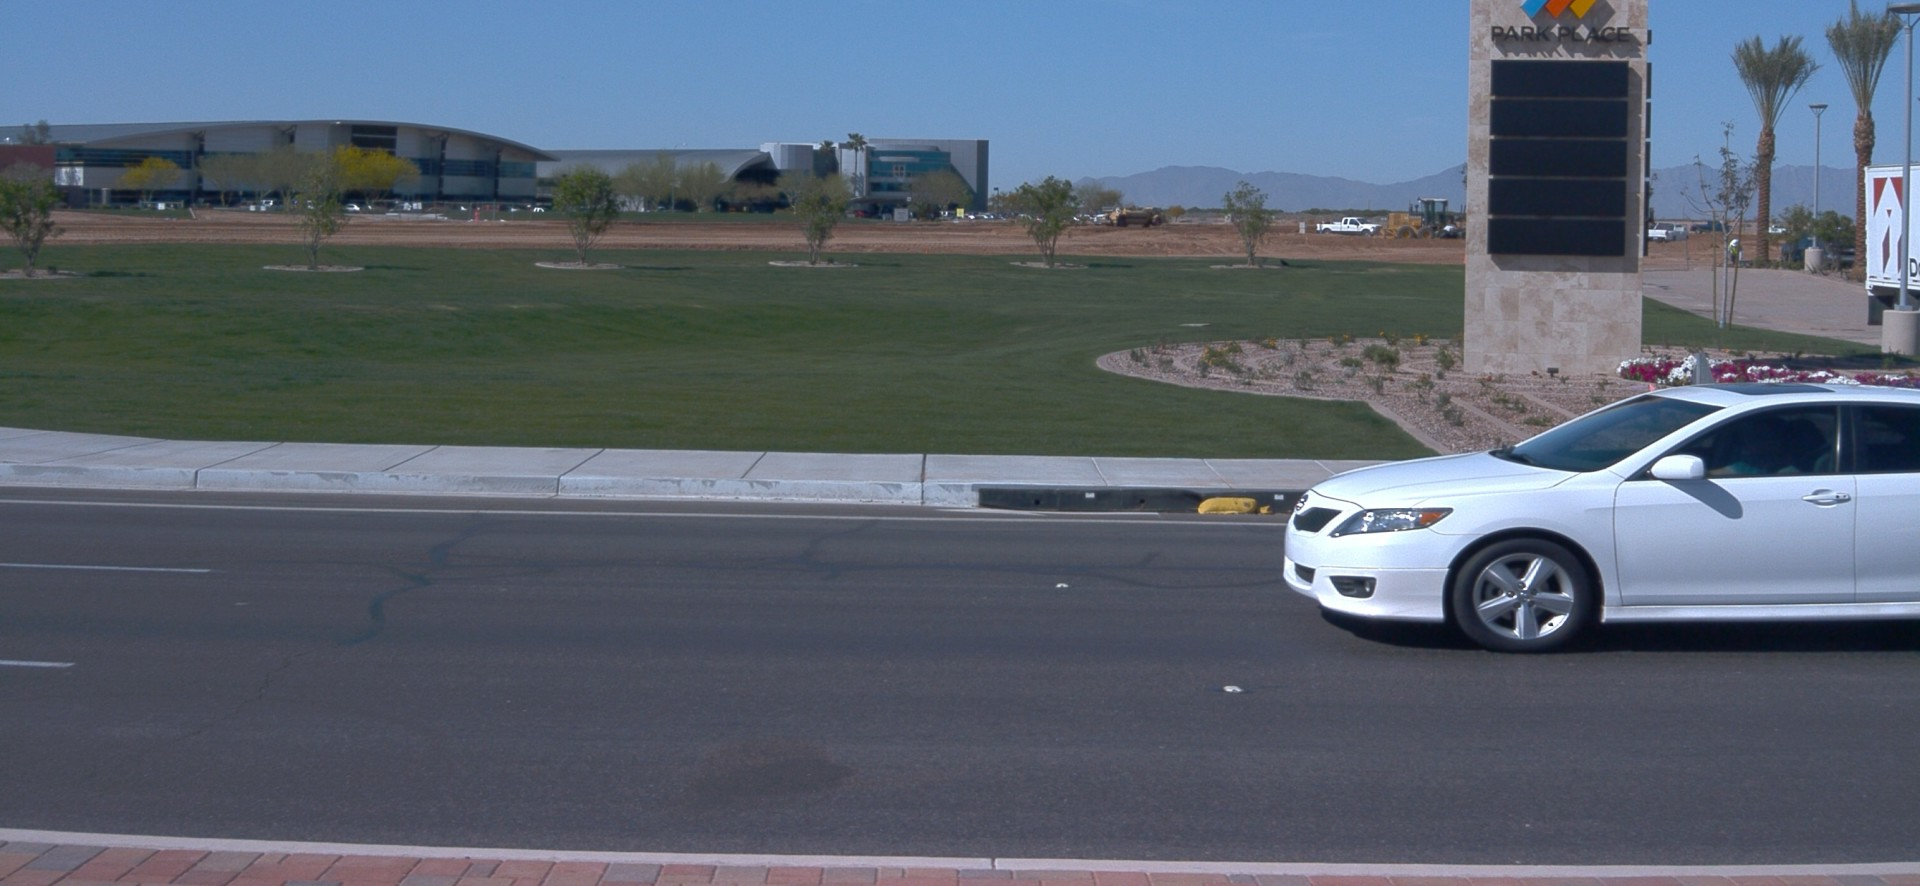TYPE_PEDESTRIAN: (1726, 236, 1743, 268)
TYPE_VEHICLE: (1282, 388, 1920, 660), (1867, 165, 1920, 331), (1379, 196, 1467, 241), (1776, 225, 1855, 270), (1317, 217, 1386, 238), (1105, 208, 1163, 229), (1642, 224, 1686, 245), (1687, 224, 1732, 238), (1435, 222, 1458, 240), (1093, 208, 1114, 226), (249, 198, 273, 211), (1646, 212, 1656, 236), (236, 201, 255, 212), (1767, 228, 1787, 238), (390, 206, 412, 211), (305, 198, 315, 208), (341, 204, 356, 210), (535, 209, 546, 214)
